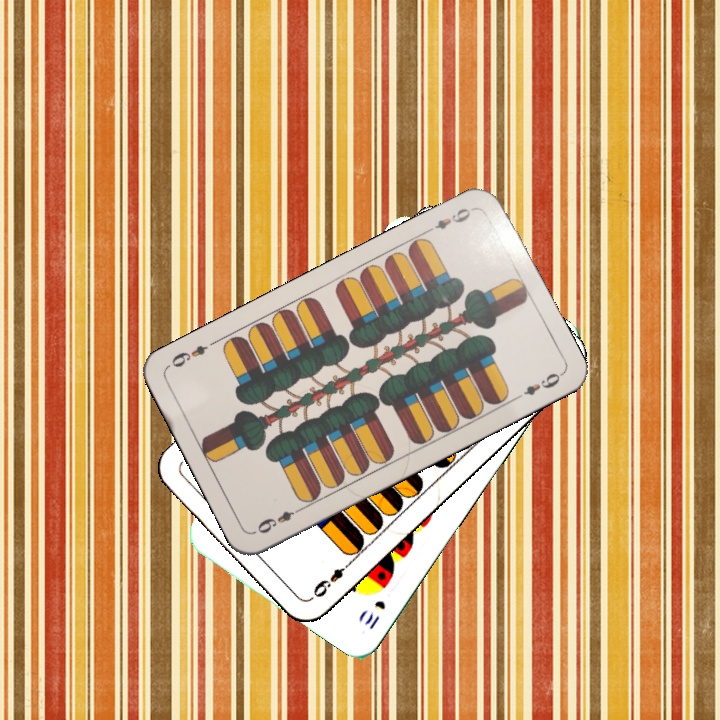E9: (307, 557, 355, 602), (422, 203, 478, 236), (253, 503, 306, 537)
S10: (360, 596, 388, 633)
